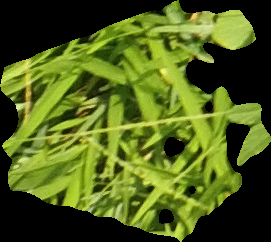grass: (1, 1, 269, 240)
